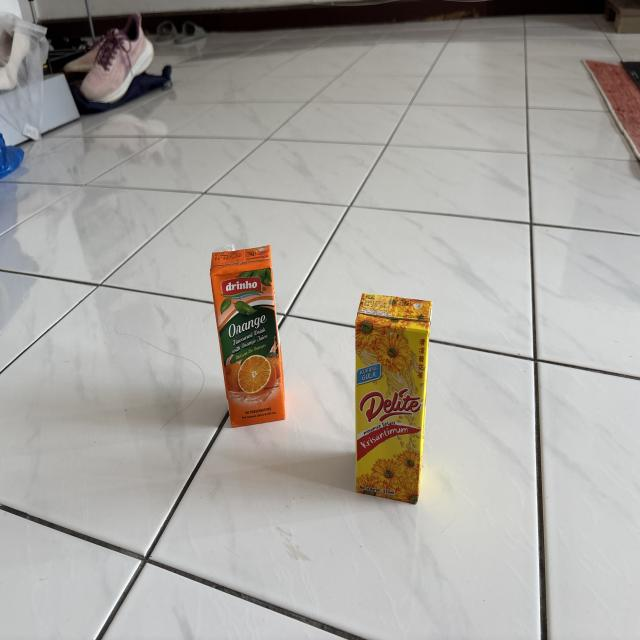drink_carton: (348, 282, 436, 514), (204, 236, 294, 434)
